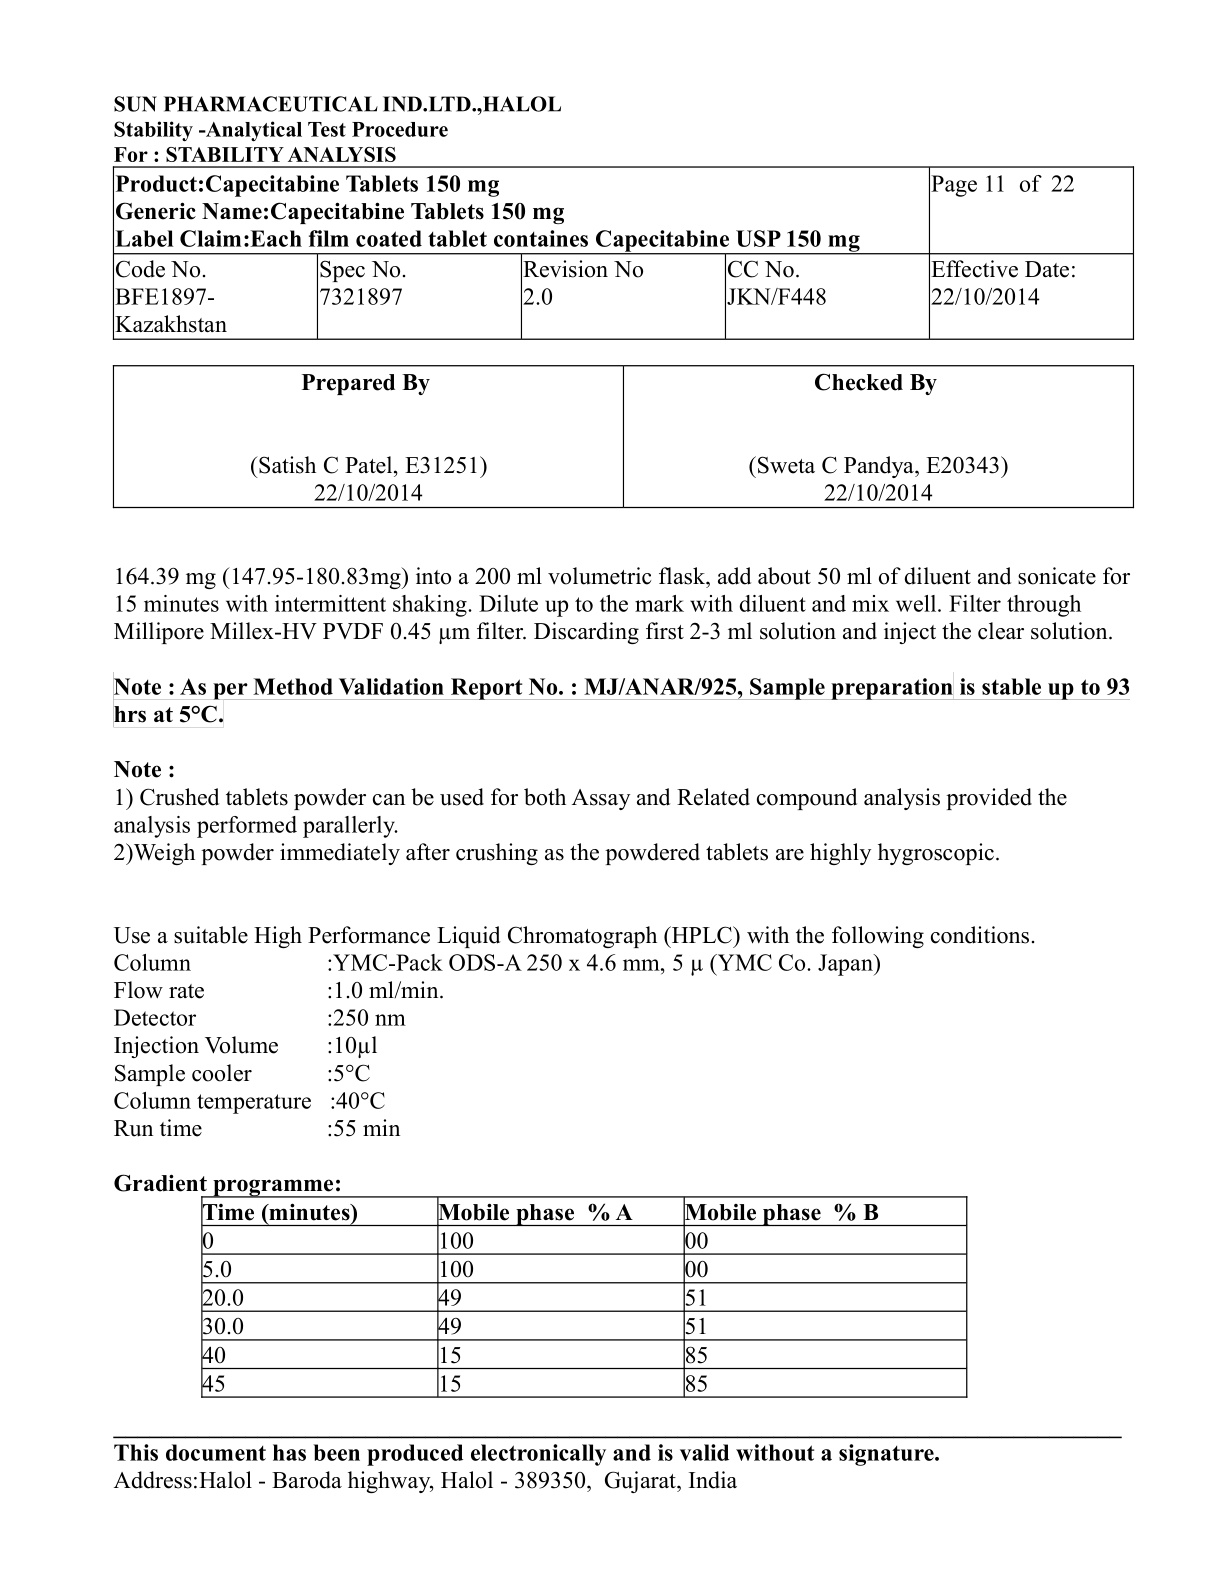full_lined: (201, 1194, 969, 1399), (111, 363, 1137, 510)
merged_cells: (111, 165, 1135, 341)
